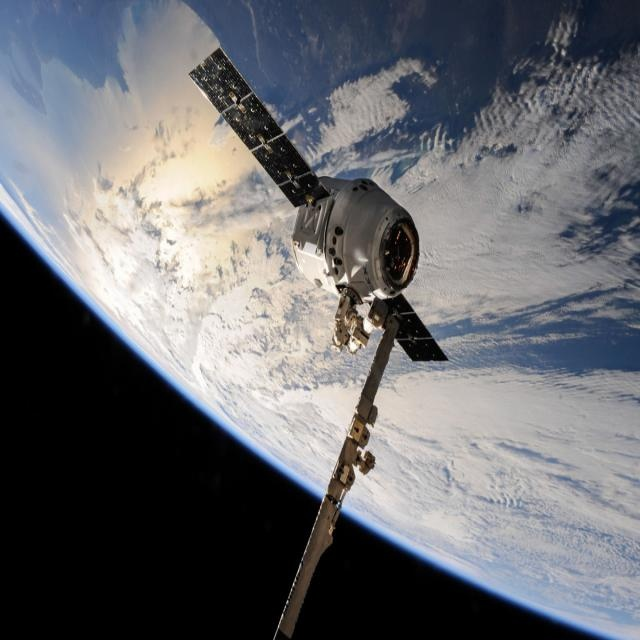satellite: (181, 34, 455, 640)
